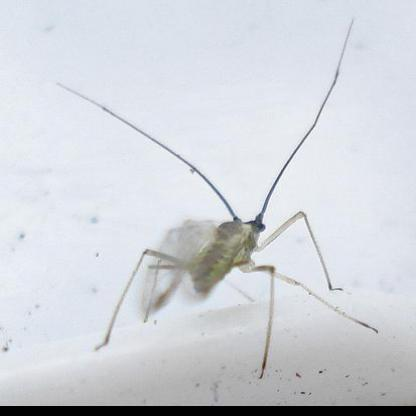aphid: (38, 87, 386, 376)
